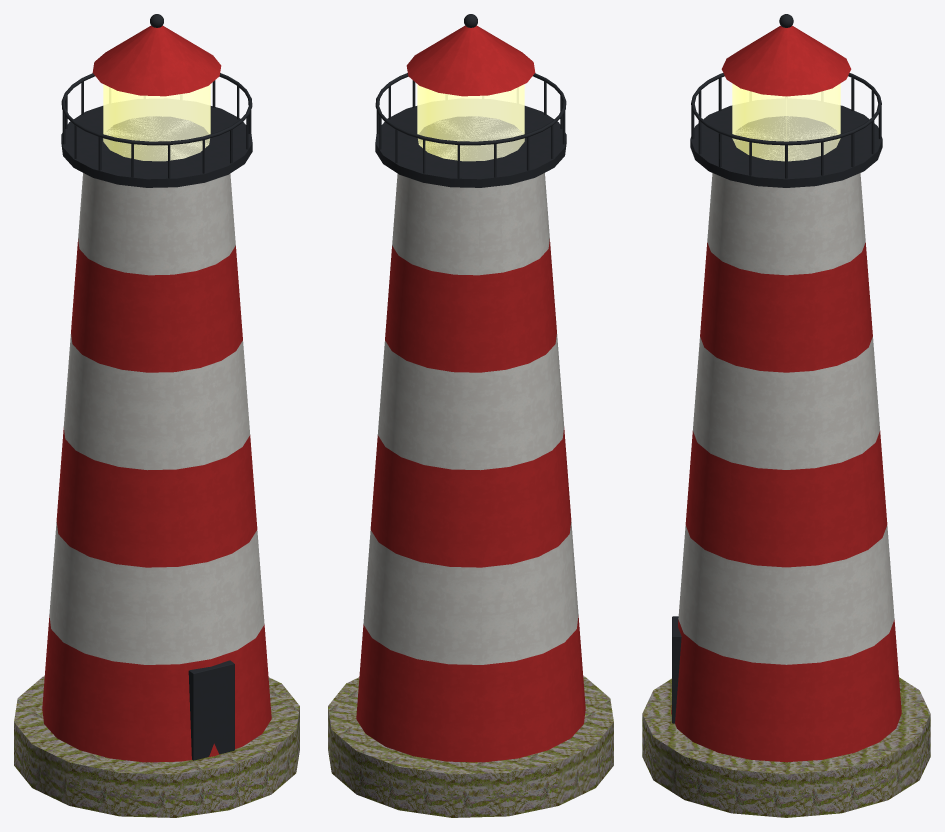
File: region_lighthouse.glb
The picture shows the model from 3 angles, left to right: view 1: azimuth 30°, elevation 25°; view 2: azimuth 150°, elevation 25°; view 3: azimuth 270°, elevation 25°; orthographic projection.
Visible parts, largest first — view 1: prop; view 2: prop; view 3: prop.
Boxes of the visible parts, box(x1,y1,x2,y2) form: prop: box(14, 14, 299, 817); prop: box(328, 14, 613, 817); prop: box(642, 14, 930, 817).
Bounding box in the file's own units: 15 × 42.62 × 15.
5 materials, 4 textured.
